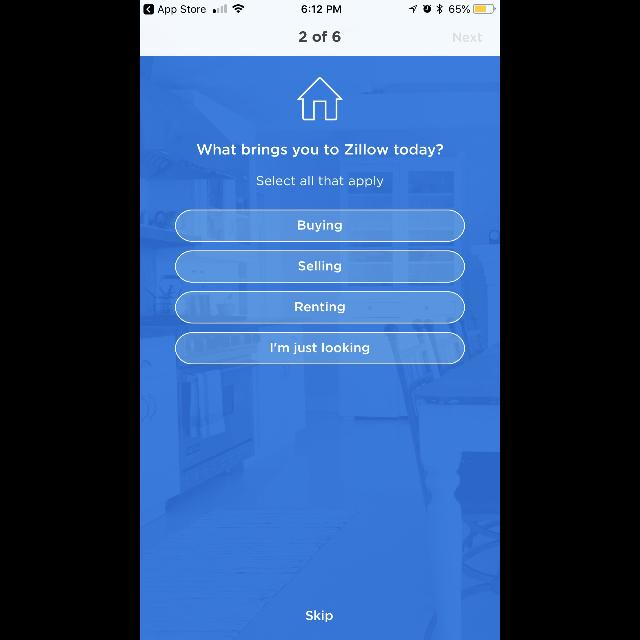backgroundimage: (140, 56, 500, 640)
icon: (297, 77, 343, 121)
text: (197, 143, 443, 157), (256, 176, 384, 188), (299, 32, 341, 42), (306, 610, 332, 622), (453, 32, 482, 42)
textbutton: (175, 210, 465, 242), (175, 251, 465, 283), (175, 292, 465, 324), (175, 333, 465, 365)
uppertaskbar: (140, 1, 500, 16)
